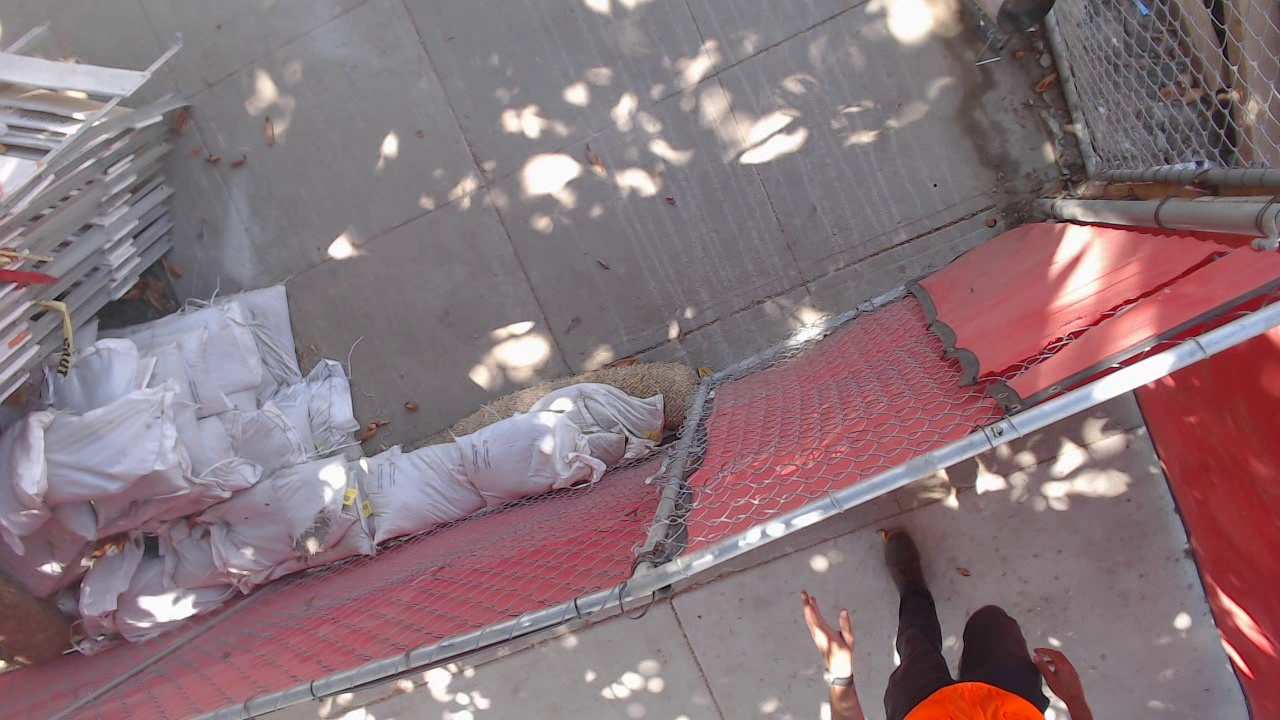hardhat: (363, 493, 555, 619), (1, 1, 153, 85)
person: (391, 367, 743, 615), (1, 1, 320, 86)
red: (461, 547, 535, 603)
safetyvest: (473, 385, 708, 579), (143, 1, 255, 39)
